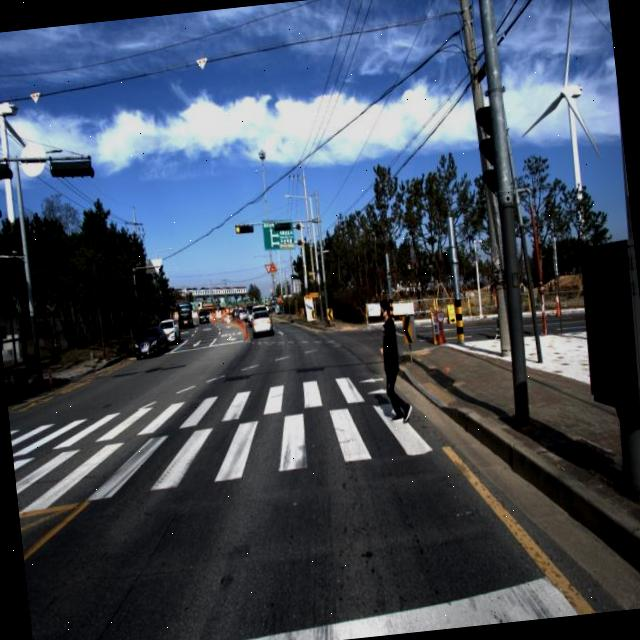crosswalk: (10, 370, 444, 513)
